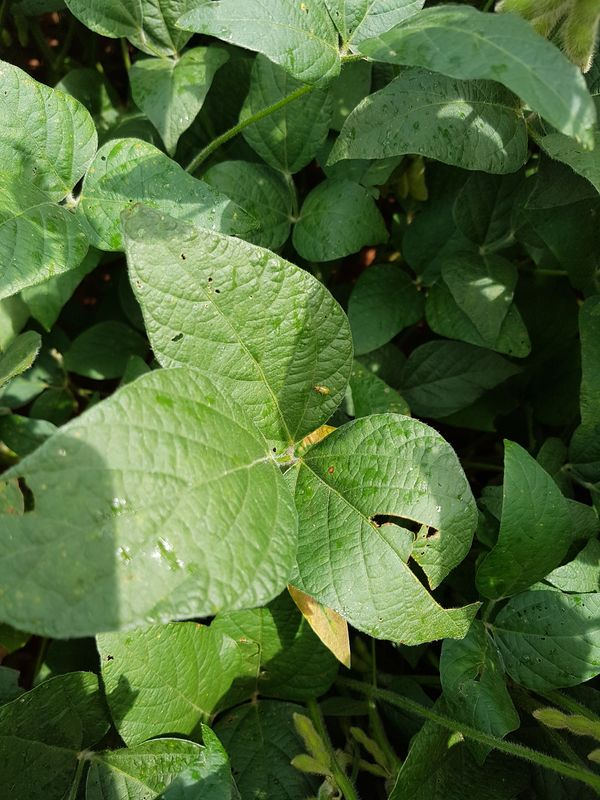Diabrotica_speciosa: (308, 380, 334, 401)
